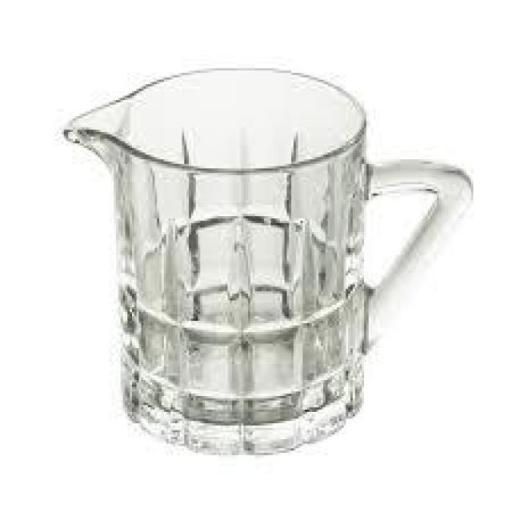glass: (60, 54, 488, 474)
